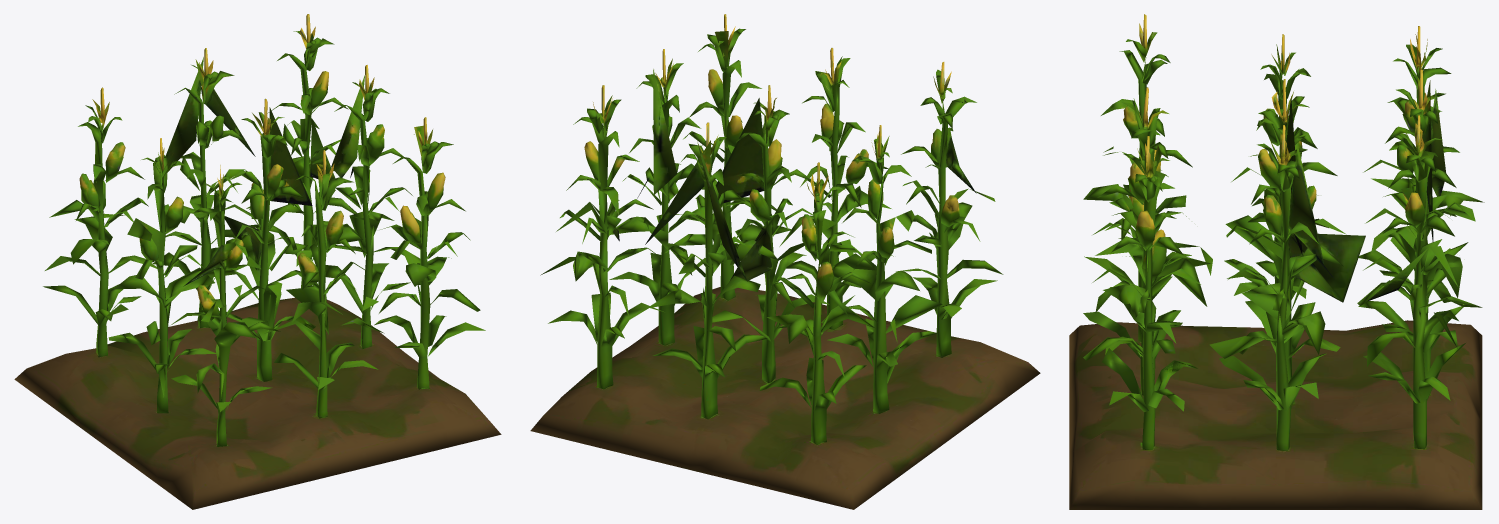
File: selected.fbx
3 views of the same model, side by side, from view 1: azimuth 30°, elevation 25°; view 2: azimuth 150°, elevation 25°; view 3: azimuth 270°, elevation 25° (orthographic). The views are drawn at different scales.
Visible parts, largest first — view 1: tripo_node_638fb3cf-69ed-4a57-aa94-dc4ebb858145; view 2: tripo_node_638fb3cf-69ed-4a57-aa94-dc4ebb858145; view 3: tripo_node_638fb3cf-69ed-4a57-aa94-dc4ebb858145.
Part boxes in pixels (bbox=[...]): tripo_node_638fb3cf-69ed-4a57-aa94-dc4ebb858145: bbox=[14, 14, 501, 509]; tripo_node_638fb3cf-69ed-4a57-aa94-dc4ebb858145: bbox=[530, 14, 1040, 509]; tripo_node_638fb3cf-69ed-4a57-aa94-dc4ebb858145: bbox=[1069, 14, 1484, 509].
Bounding box in the file's own units: 99.8 × 98.24 × 99.8.
1 material, 1 textured.
